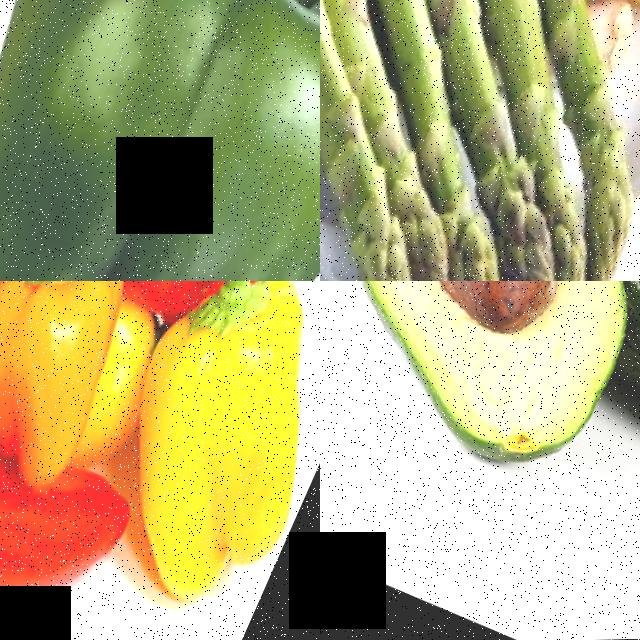asparagus: (320, 0, 640, 281)
avocado: (320, 281, 640, 505)
bell pepper: (0, 0, 320, 281), (87, 290, 320, 588), (0, 281, 135, 462), (0, 434, 108, 640)
